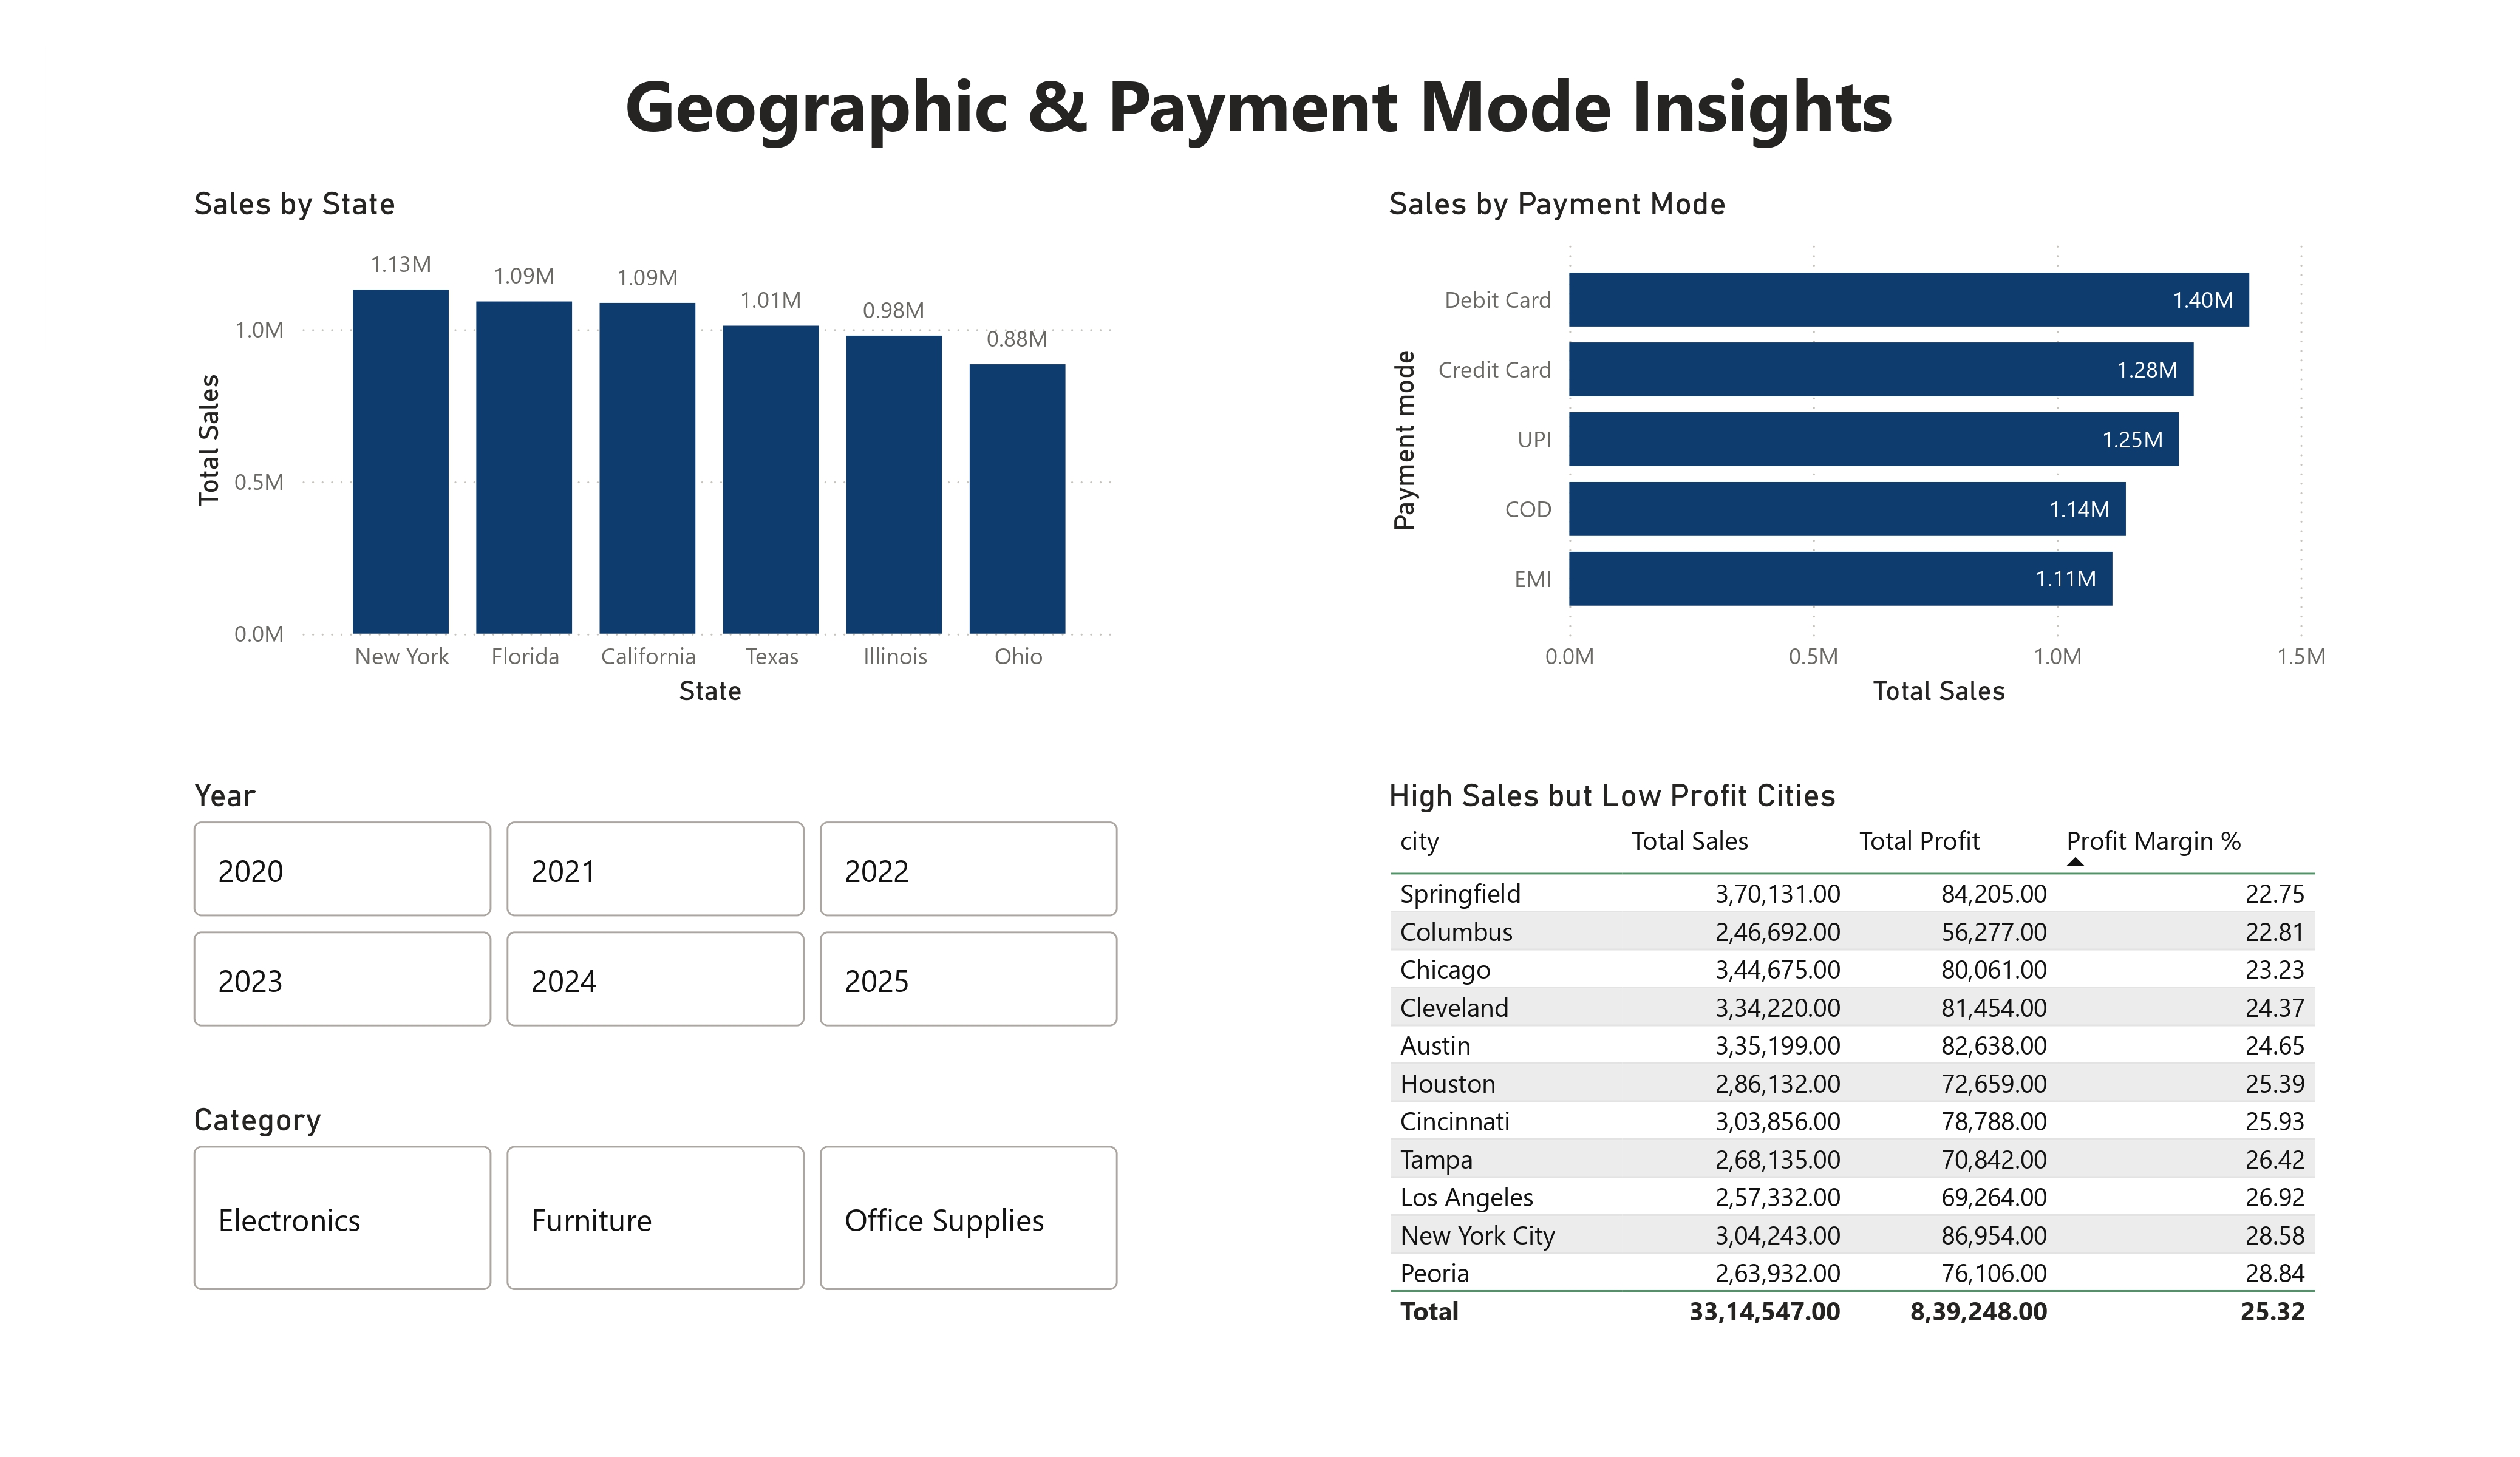

This screenshot's page, from the dashboard's own definition file:
{"tool":"powerbi","page":{"name":"Geography & Payment Analysis","canvas":[1280,720],"ordinal":4},"visuals":[{"type":"columnChart","title":"Sales by State","fields":{"Y":["public retail_sales.Total Sales"],"Category":["public retail_sales.state"]},"box":[72.9,72.9,496.6,280.1],"z":0},{"type":"tableEx","title":"High Sales but Low Profit Cities","fields":{"Values":["public retail_sales.city","public retail_sales.Total Sales","public retail_sales.Total Profit","public retail_sales.Profit Margin %"]},"box":[702.6,385.5,509.3,324.1],"z":1000},{"type":"barChart","title":"Sales by Payment Mode","fields":{"Category":["public retail_sales.payment_mode"],"Y":["public retail_sales.Total Sales"]},"box":[702.6,72.9,509.3,280.1],"z":2000},{"type":"advancedSlicerVisual","fields":{"Values":["public retail_sales.order_date.Variation.Date Hierarchy.Year"]},"box":[72.9,385.5,496.6,136.6],"z":3000},{"type":"advancedSlicerVisual","fields":{"Values":["public retail_sales.category"]},"box":[72.9,555.6,496.6,105.3],"z":4000},{"type":"textbox","box":[0,0,1279.1,72.9],"z":5000}]}

Visuals, with their boxes on the page's 1280x720 design canvas (x1, y1, x2, y2). These are canvas units, not pixel positions in the 2520x1457 screenshot, which may show the page scaled, cropped or inside an application window:
"Sales by State" columnChart: bbox(73, 73, 570, 353)
"High Sales but Low Profit Cities" tableEx: bbox(703, 386, 1212, 710)
"Sales by Payment Mode" barChart: bbox(703, 73, 1212, 353)
advancedSlicerVisual - public retail_sales.order_date.Variation.Date Hierarchy.Year: bbox(73, 386, 570, 522)
advancedSlicerVisual - public retail_sales.category: bbox(73, 556, 570, 661)
textbox: bbox(0, 0, 1279, 73)
